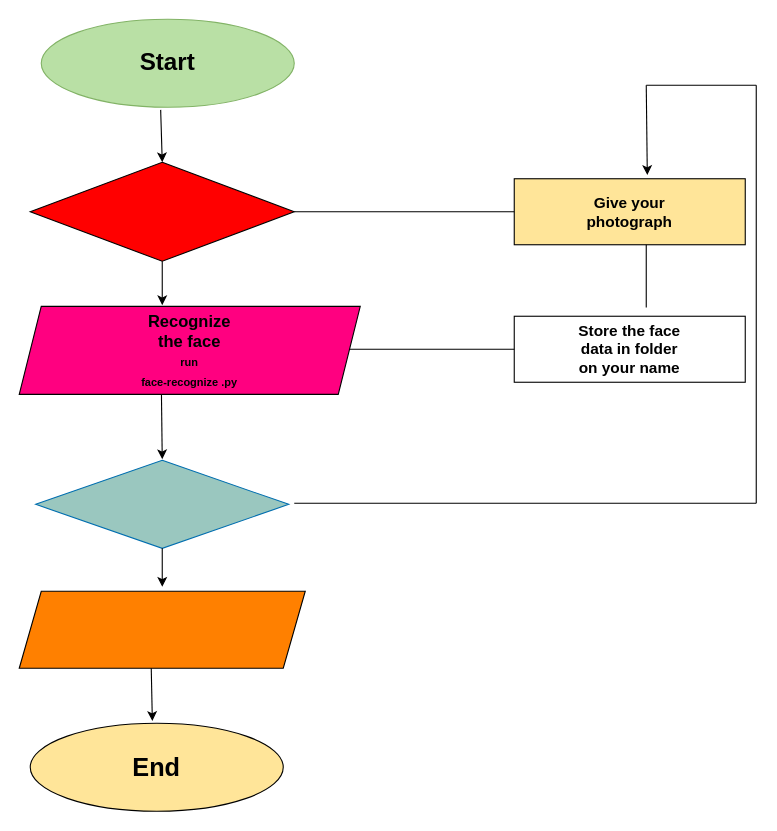
Image size: 777x831. Some labels were removed from this diagram. The shapes that lost their labels are listed below. From the top down, each one's box as (x1, y1, x2, y2) in pixels, then its label:
(29, 161, 294, 261): N ew User ? run create-dataset.py
(35, 459, 289, 548): Face Recognized
(18, 590, 305, 668): Stored in csv file with Registration Number & Data Time of Entry
